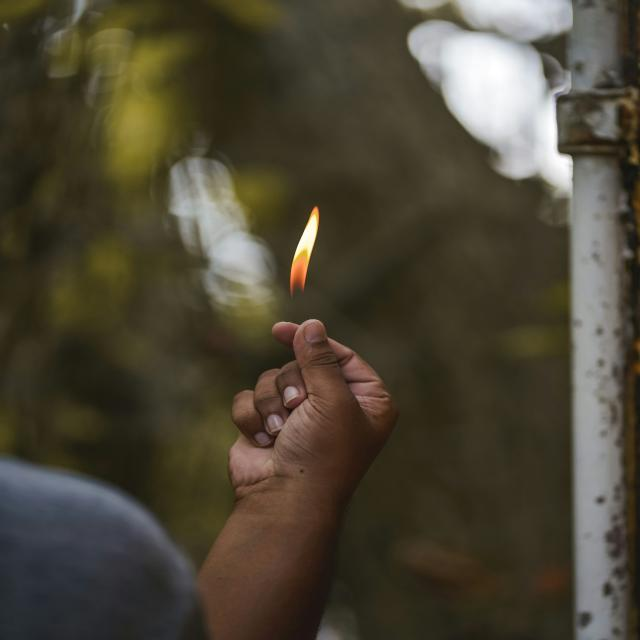fire: (290, 206, 319, 290)
